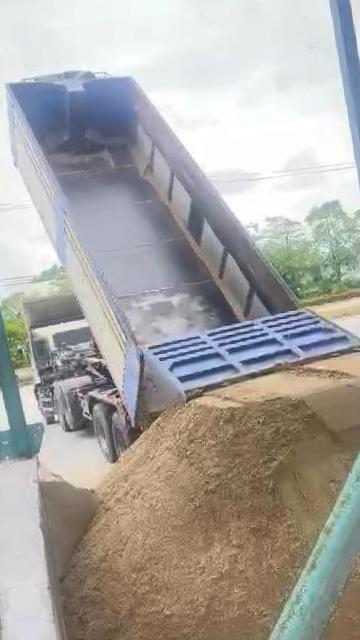sand: (65, 353, 360, 640), (295, 433, 360, 640), (40, 464, 98, 581)
